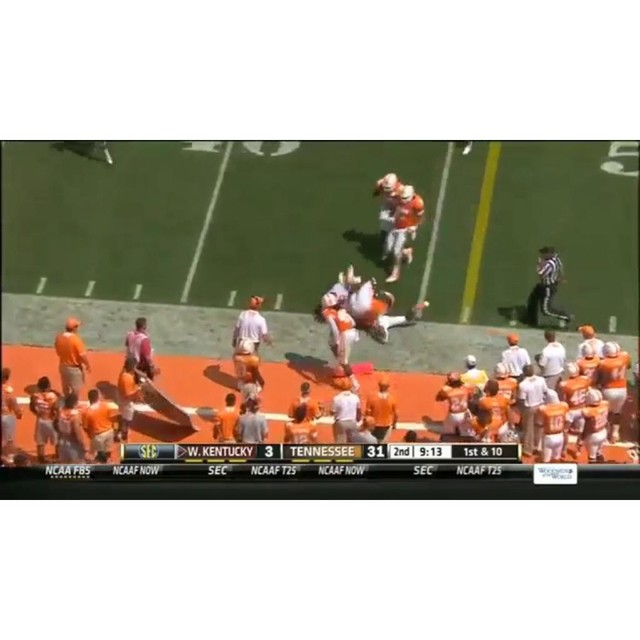american-football-player: (382, 184, 426, 280), (368, 174, 403, 257)
referee: (501, 245, 574, 330)
